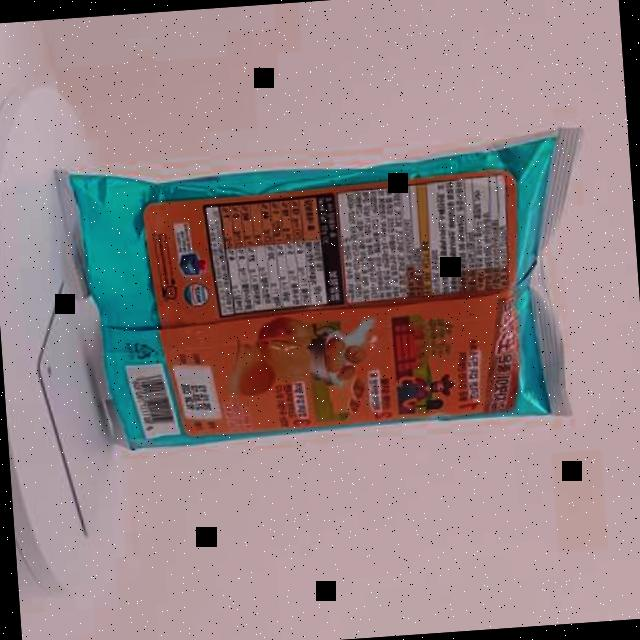snack_bag: (32, 86, 616, 473)
